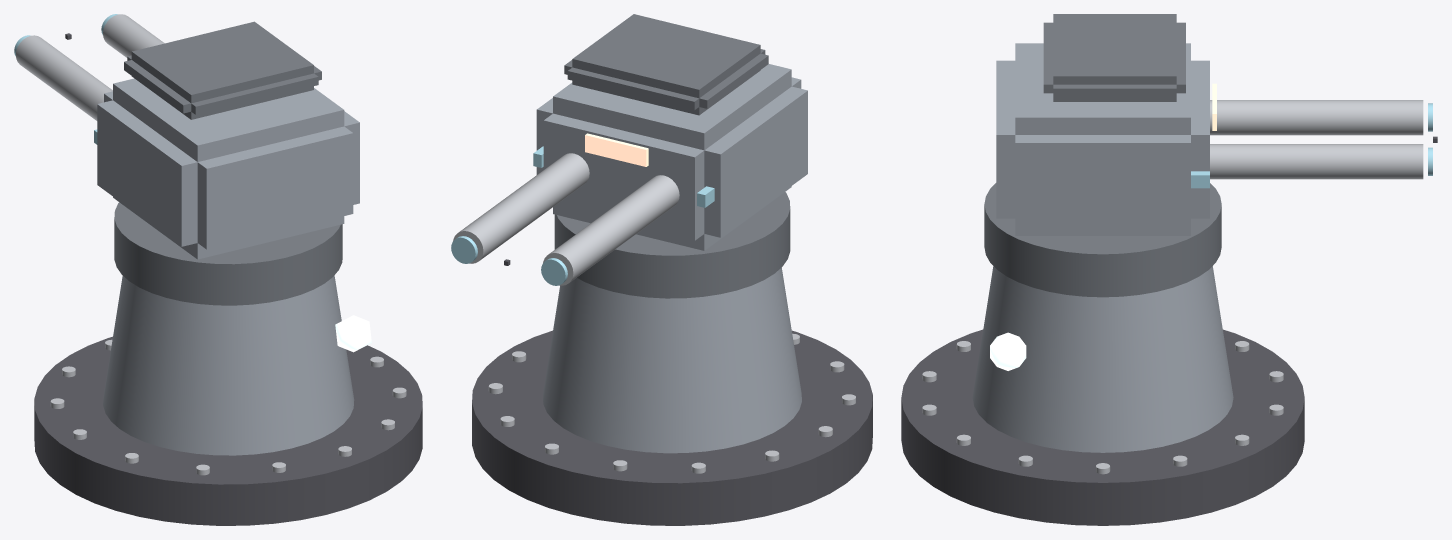
File: base_turret_2.fbx
3 views of the same model, side by side, from view 1: azimuth 30°, elevation 25°; view 2: azimuth 150°, elevation 25°; view 3: azimuth 270°, elevation 25° (orthographic). The views are drawn at different scales.
Parts seen in each view (by area): view 1: base_turret_2, Aim_Y_Head, Indicator; view 2: base_turret_2, Aim_Y_Head; view 3: base_turret_2, Aim_Y_Head, Indicator.
Boxes of the visible parts, x1,y1,x2,y2 form: base_turret_2: [34, 202, 422, 525]; Aim_Y_Head: [14, 14, 359, 259]; Indicator: [335, 315, 371, 352]; base_turret_2: [472, 192, 872, 525]; Aim_Y_Head: [451, 14, 807, 285]; base_turret_2: [901, 183, 1304, 525]; Aim_Y_Head: [996, 14, 1432, 235]; Indicator: [990, 332, 1026, 370].
Size of the model in its own units: 1.7 by 1.84 by 2.26.
